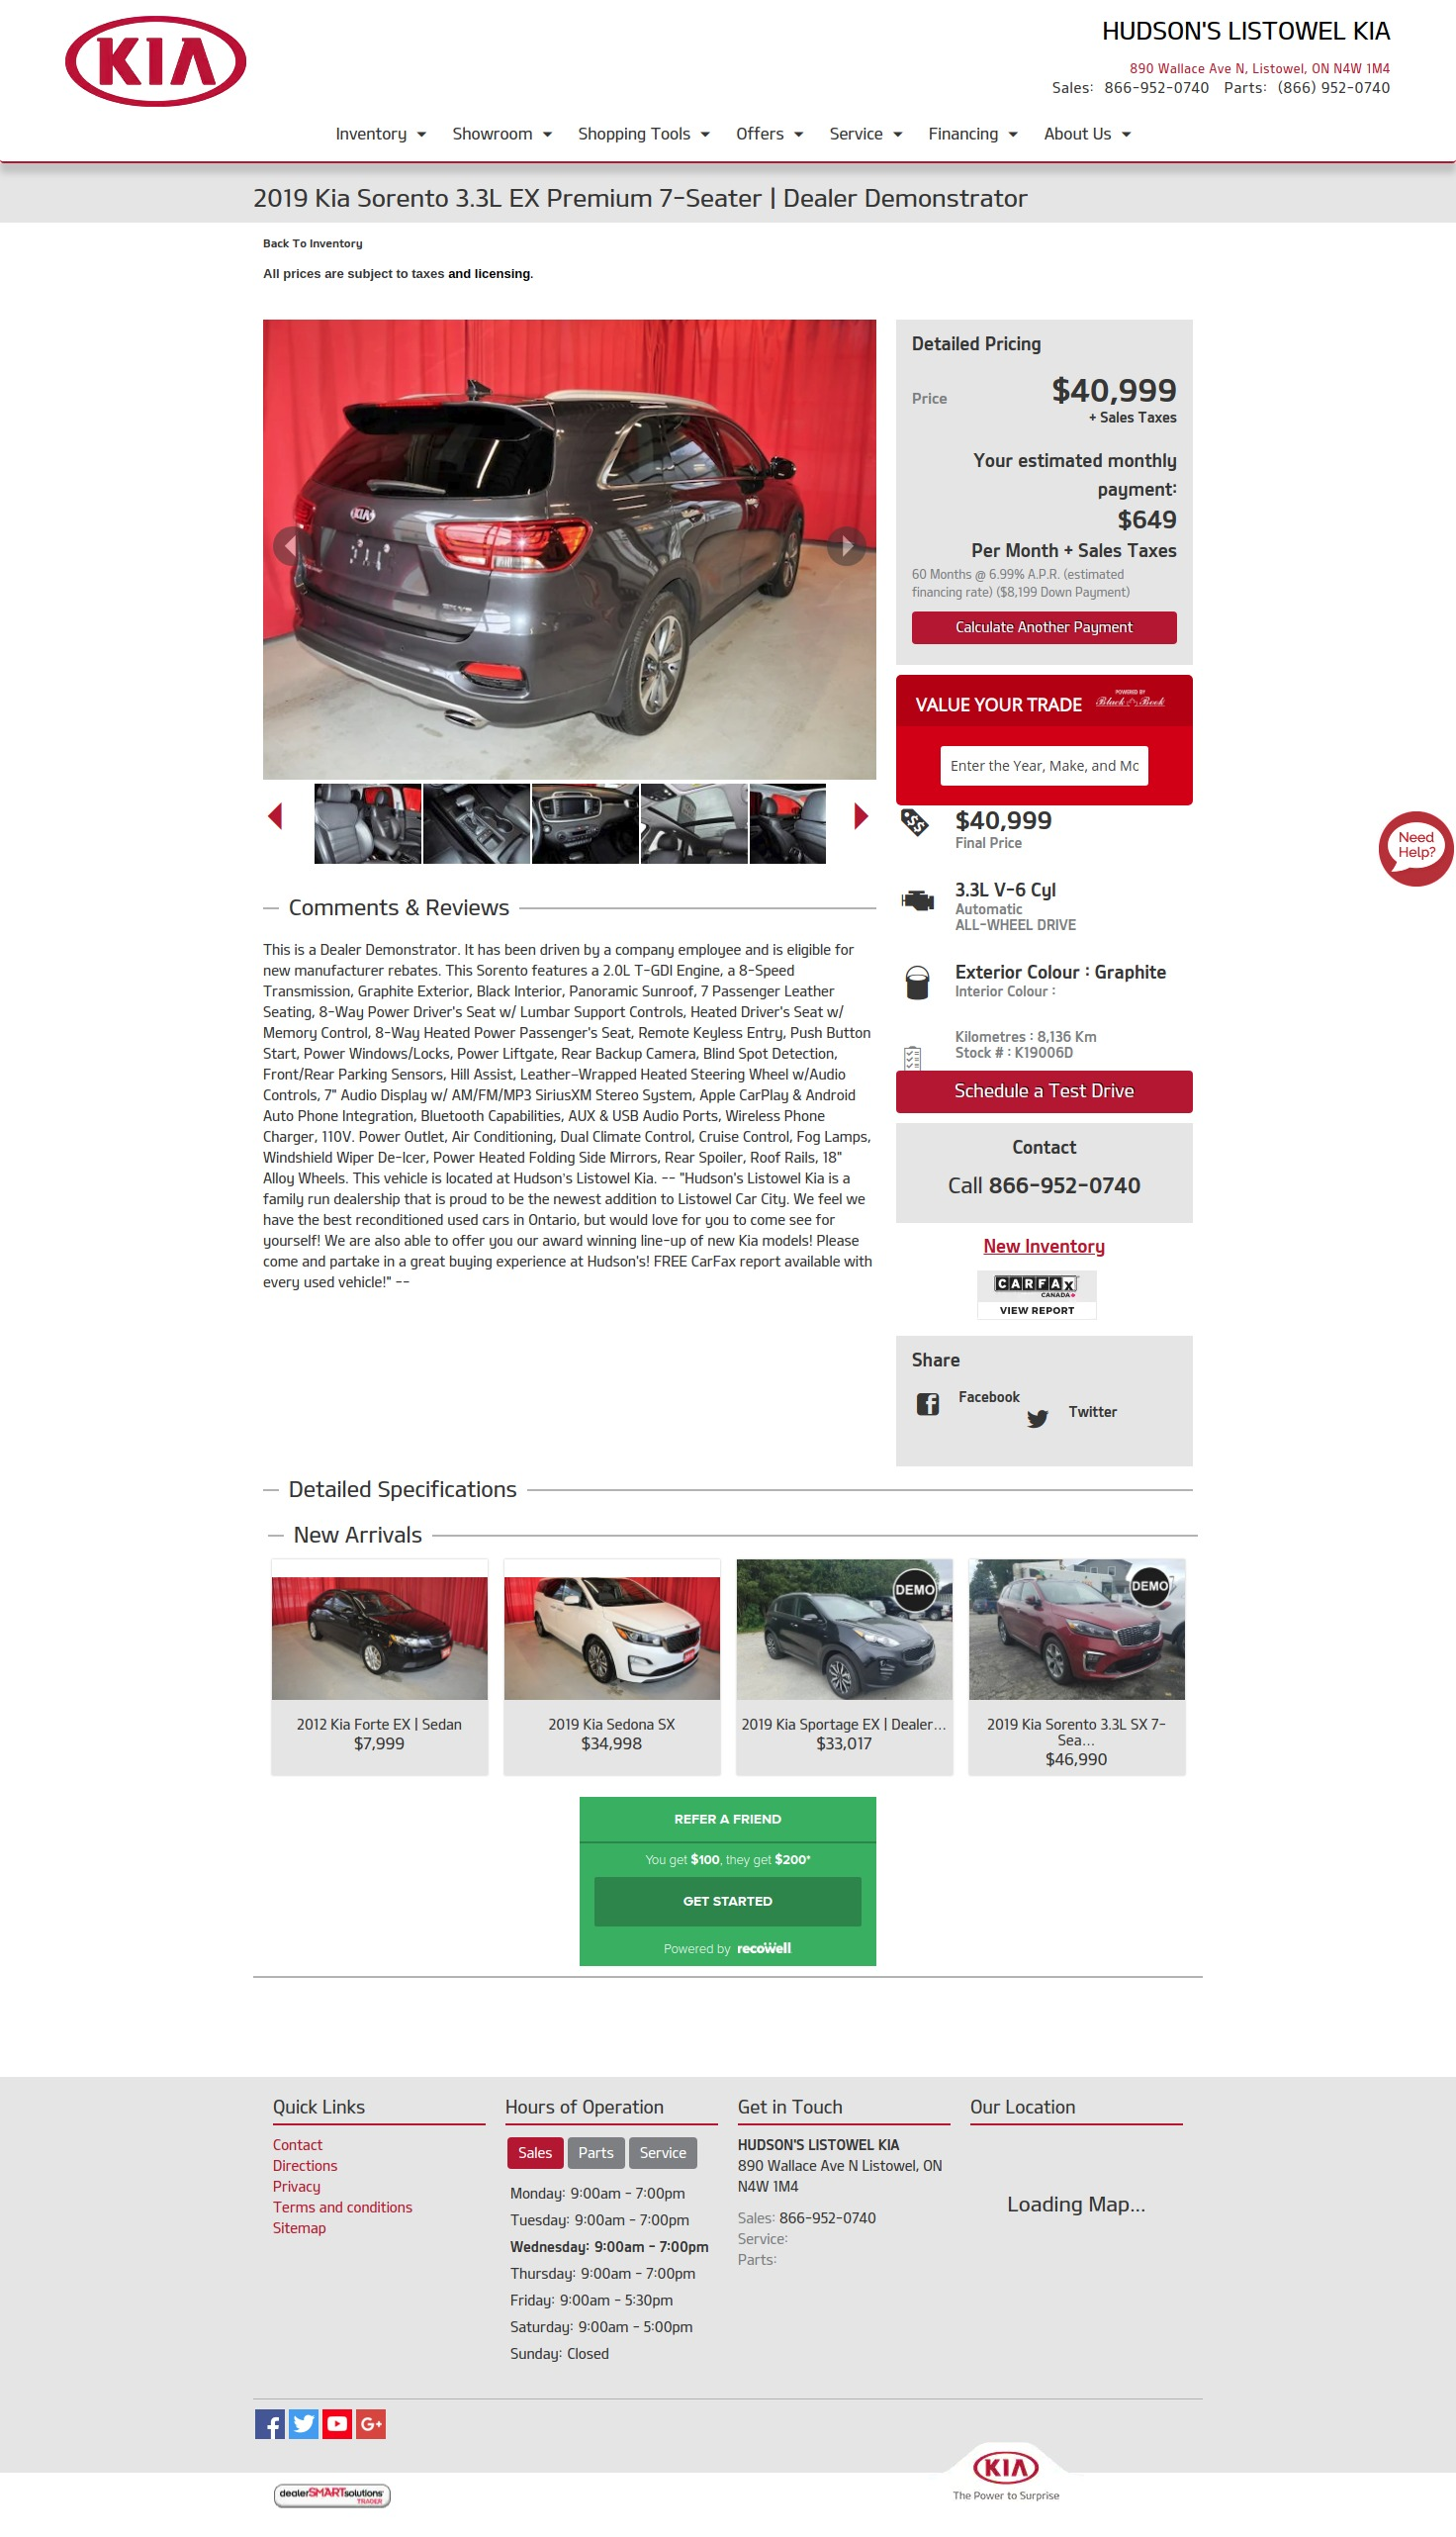car: (853, 800, 871, 833)
